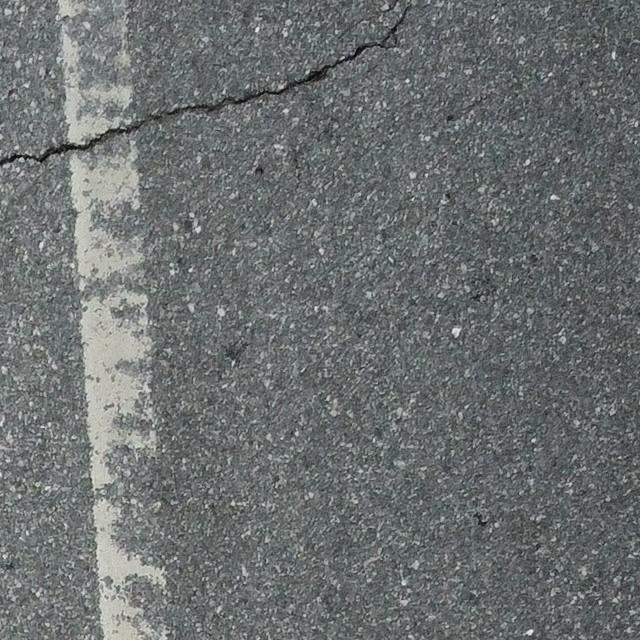TransverseCrack: (1, 1, 412, 167)
